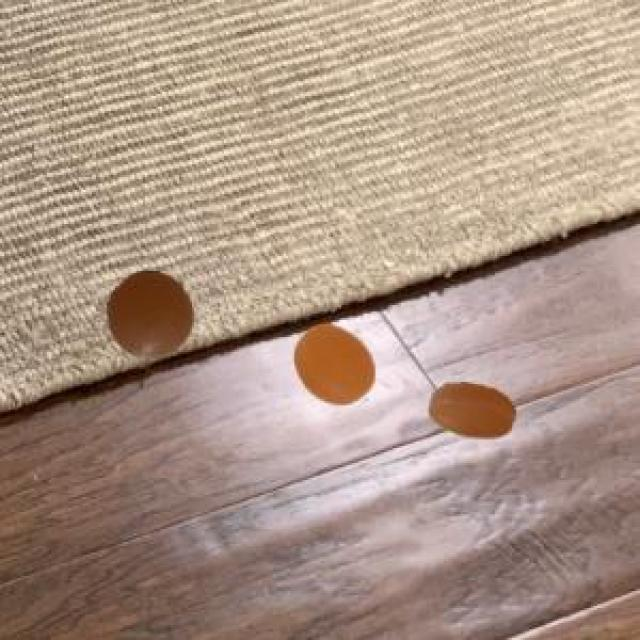Bactidol: (94, 258, 204, 378), (417, 358, 528, 452), (289, 307, 386, 410)
